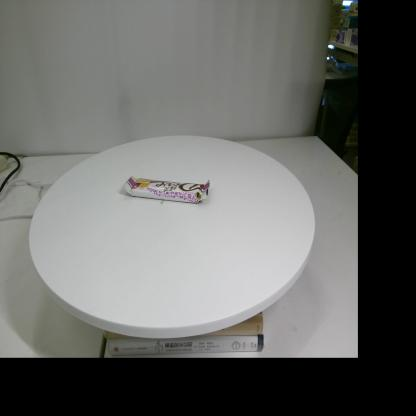Chocolate: (122, 176, 210, 204)
